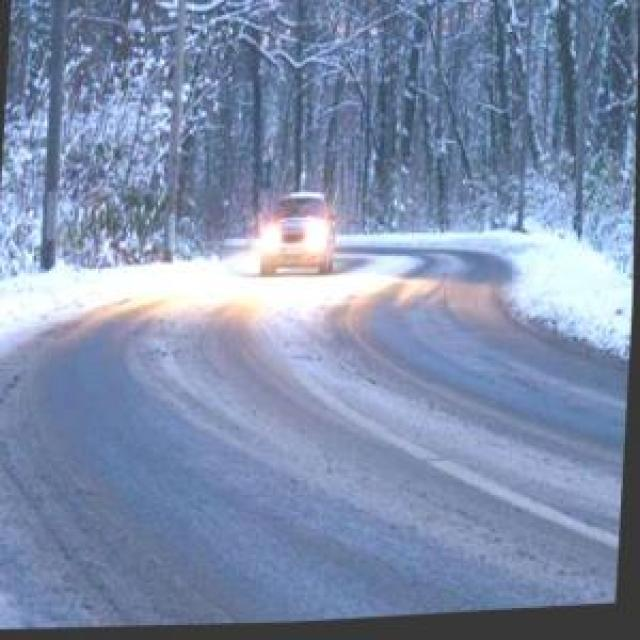ice-road: (1, 252, 630, 628)
